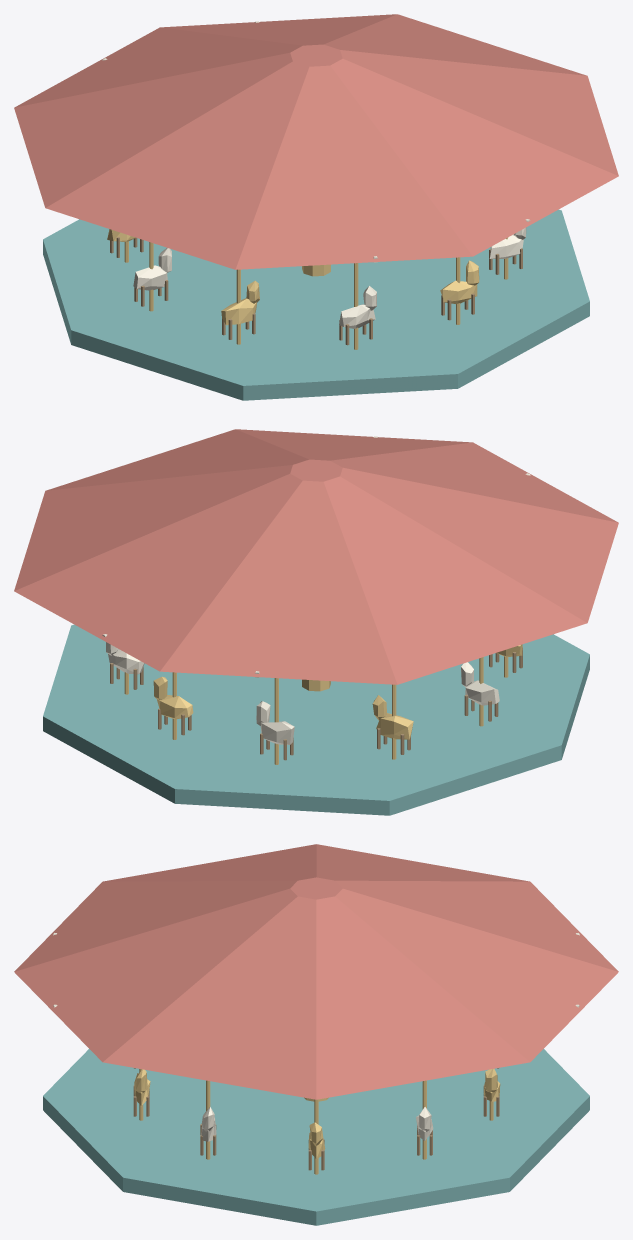
File: carousel.glb
The picture shows the model from 3 angles, top to bottom: view 1: azimuth 30°, elevation 25°; view 2: azimuth 150°, elevation 25°; view 3: azimuth 270°, elevation 25°; orthographic projection. The views are drawn at different scales.
Bounding box in the file's own units: 23 × 9.3 × 23.
